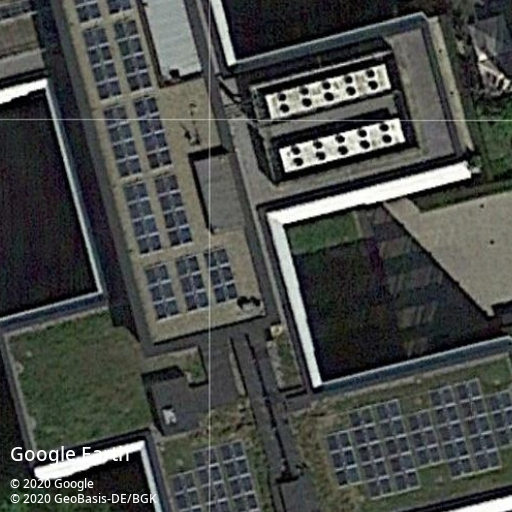Chiller: (264, 63, 393, 121), (278, 117, 406, 174)
